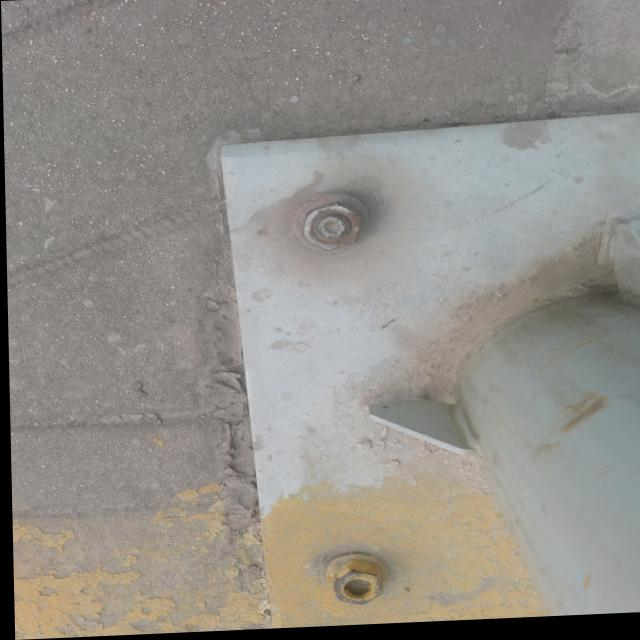Regular bolt: (300, 205, 362, 255), (328, 562, 381, 610)
